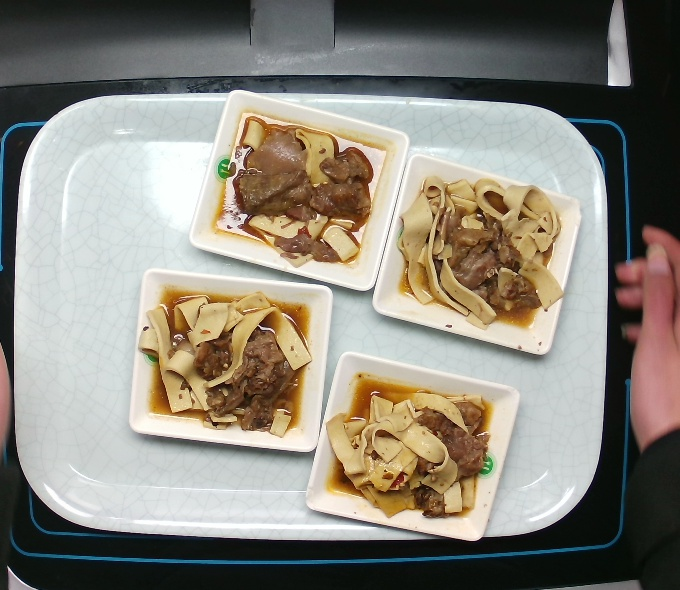wcq-QianZhangNiuNan: (387, 168, 570, 330), (327, 367, 504, 529), (137, 284, 310, 441), (219, 107, 381, 267)
